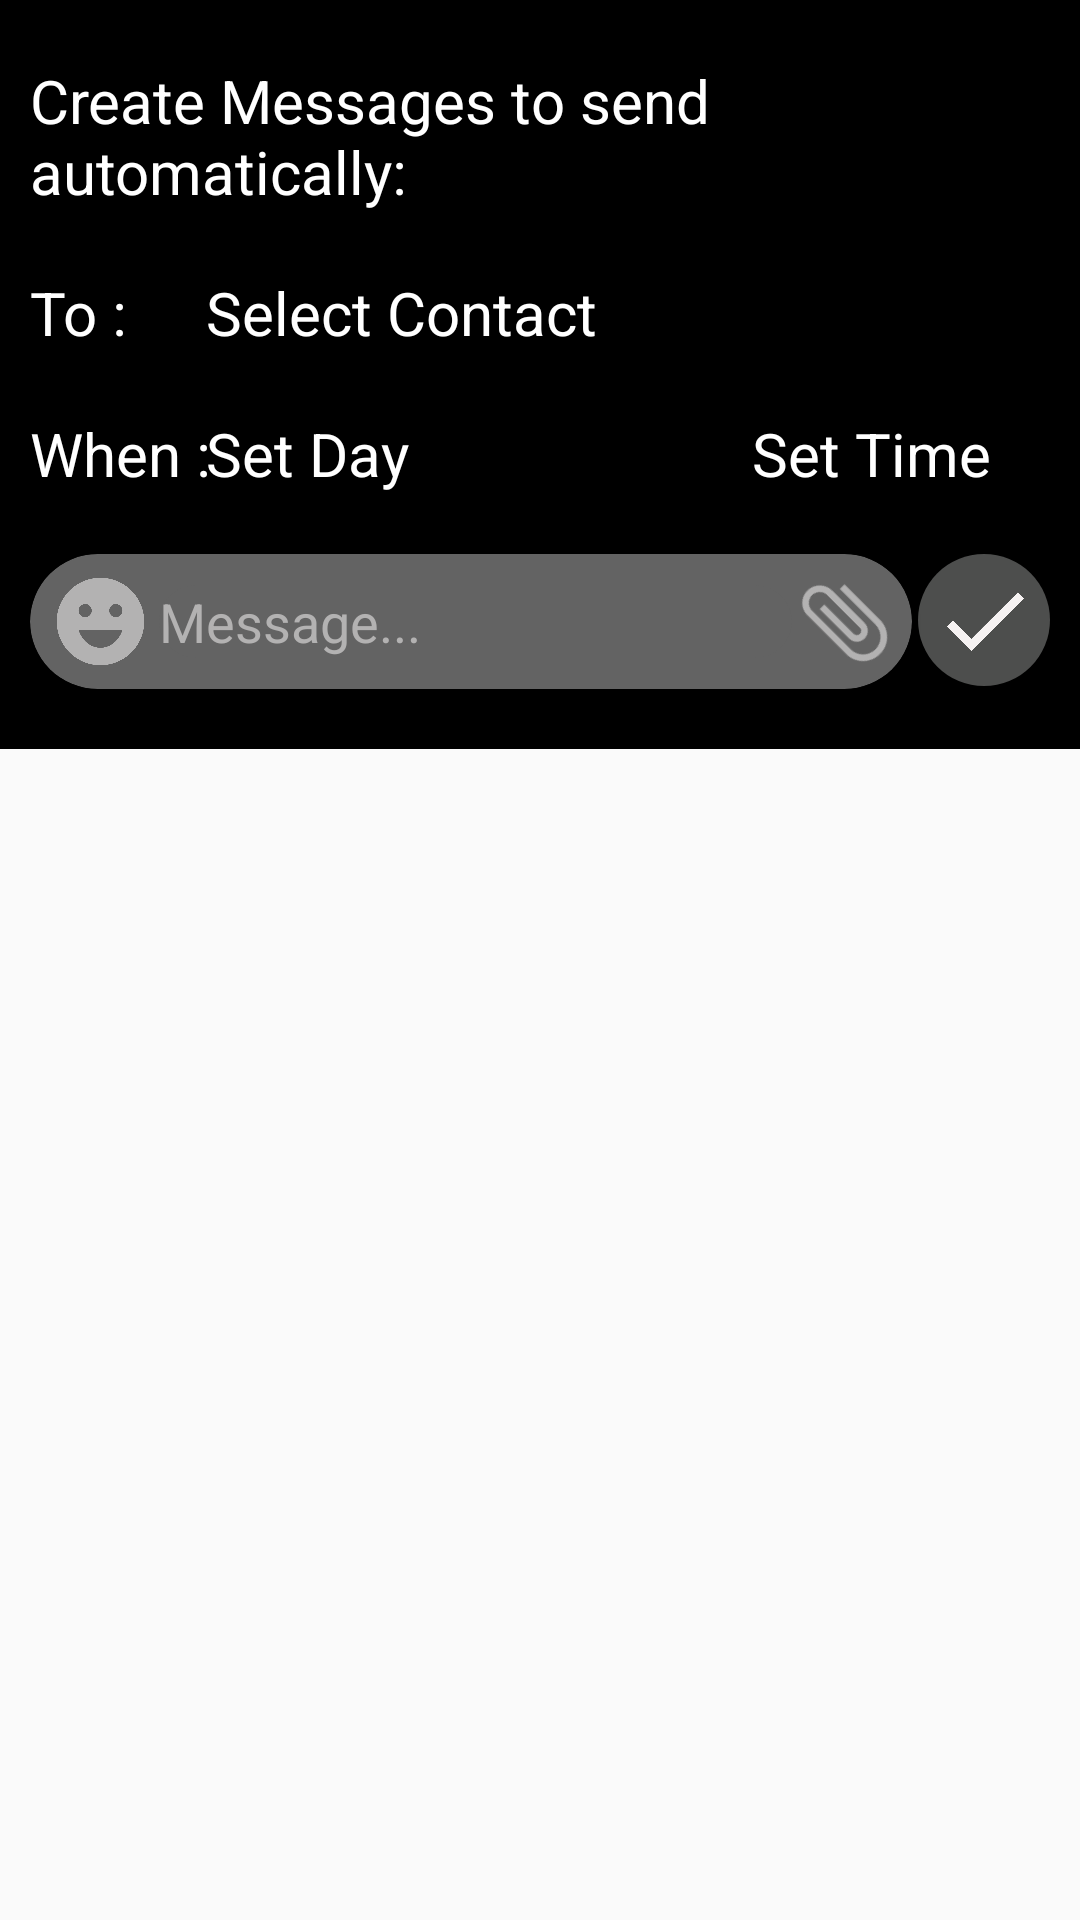

Icons on this 1080x1920 Android screen, each with its box as bbox=(x1, y1, x2, y2):
check: bbox=(918, 554, 1050, 686)
emoji emotions: bbox=(57, 578, 144, 665)
